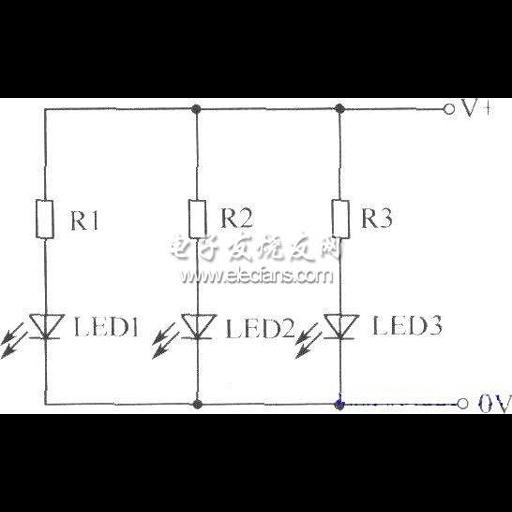firstresistance: (29, 196, 57, 244), (183, 197, 210, 243), (328, 197, 354, 241)
secondled: (293, 309, 361, 366), (1, 309, 66, 364), (149, 309, 219, 359)
